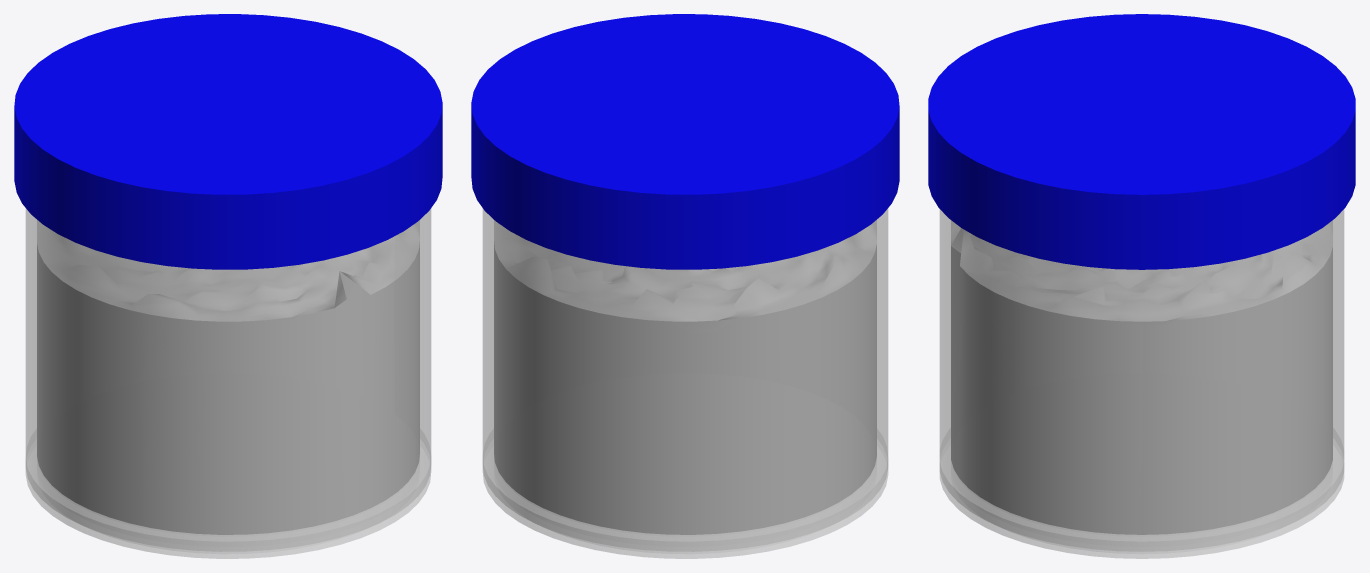
Rendered from Urine bottle - full.fbx.
3 views of the same model, side by side, from view 1: azimuth 30°, elevation 25°; view 2: azimuth 150°, elevation 25°; view 3: azimuth 270°, elevation 25° (orthographic).
Visible parts, largest first — view 1: pPipe1, pCylinder3, pCylinder2, pCylinder1; view 2: pPipe1, pCylinder3, pCylinder2, pCylinder1; view 3: pPipe1, pCylinder3, pCylinder2, pCylinder1.
Boxes of the visible parts, x1,y1,x2,y2 form: pPipe1: (25, 208, 431, 558); pCylinder3: (37, 224, 419, 534); pCylinder2: (14, 14, 442, 269); pCylinder1: (25, 429, 430, 551); pPipe1: (482, 208, 888, 558); pCylinder3: (494, 223, 876, 534); pCylinder2: (471, 14, 899, 269); pCylinder1: (482, 429, 887, 551); pPipe1: (939, 209, 1344, 558); pCylinder3: (951, 223, 1332, 534); pCylinder2: (928, 14, 1355, 269); pCylinder1: (940, 428, 1344, 551).
Size of the model in its own units: 0.095 by 0.0903 by 0.0948.
